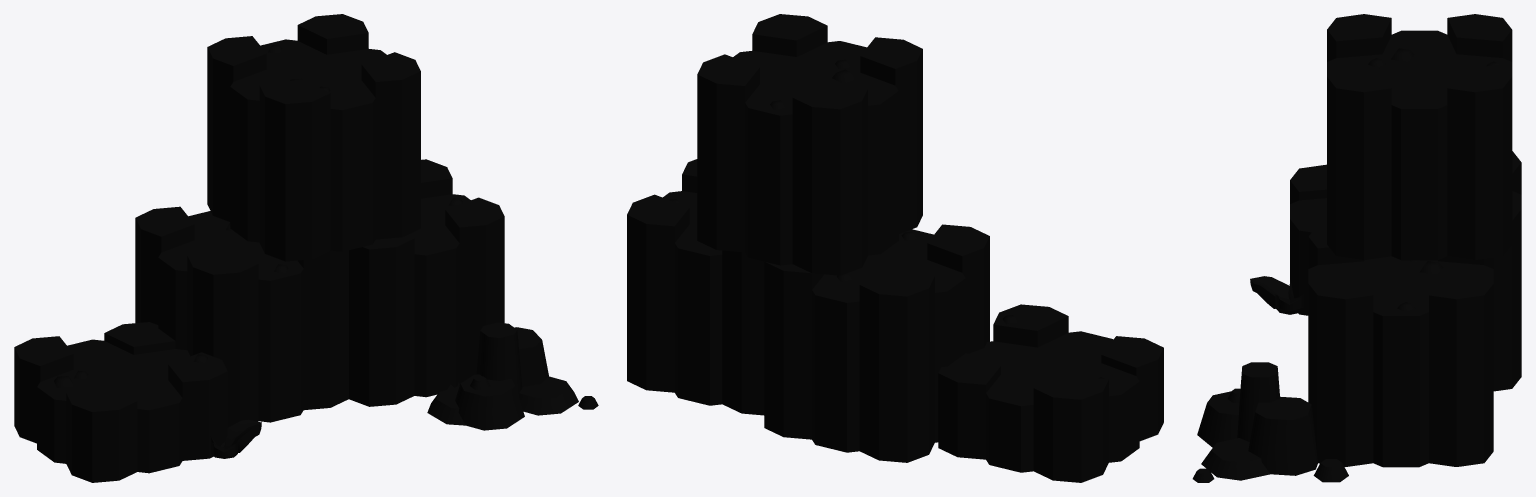
File: rock-pile.glb
The picture shows the model from 3 angles, left to right: view 1: azimuth 30°, elevation 25°; view 2: azimuth 150°, elevation 25°; view 3: azimuth 270°, elevation 25°; orthographic projection. The views are drawn at different scales.
Parts seen in each view (by area): view 1: rocks-high; view 2: rocks-high; view 3: rocks-high.
Boxes of the visible parts, x1=… form: rocks-high: x1=14, y1=14, x2=598, y2=482; rocks-high: x1=627, y1=14, x2=1163, y2=482; rocks-high: x1=1192, y1=14, x2=1521, y2=482.
Size of the model in its own units: 3.1 by 2 by 1.78.
Materials: 1 (1 with a texture image).
